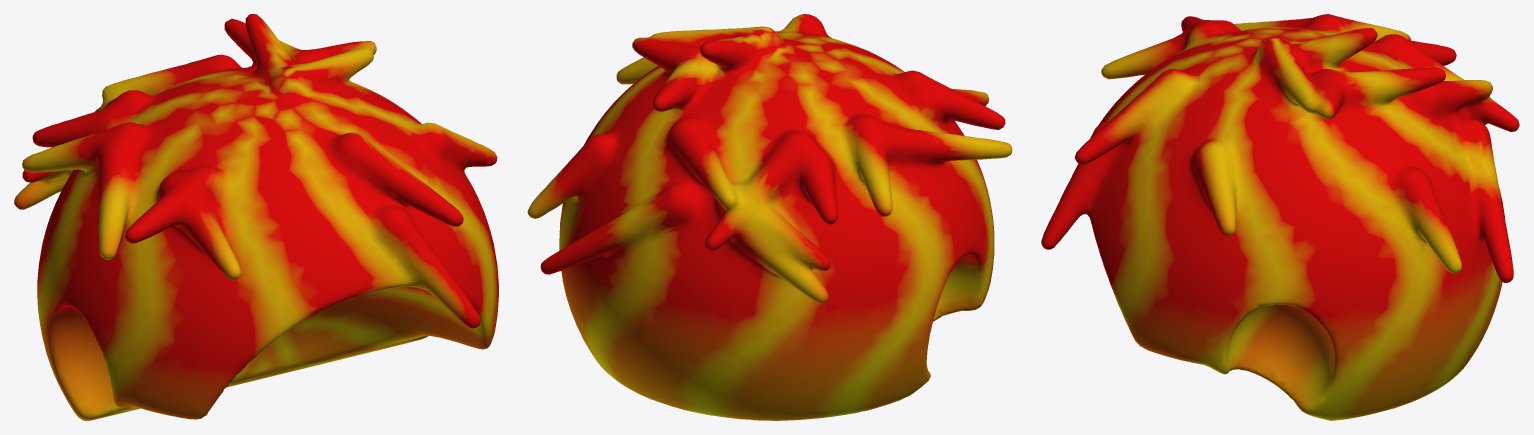
Rendered from messy.glb.
The picture shows the model from 3 angles, left to right: view 1: azimuth 30°, elevation 25°; view 2: azimuth 150°, elevation 25°; view 3: azimuth 270°, elevation 25°; orthographic projection. The views are drawn at different scales.
Visible parts, largest first — view 1: part; view 2: part; view 3: part.
Boxes of the visible parts, <box> form: part: <box>14,14,498,420</box>; part: <box>527,14,1012,420</box>; part: <box>1041,14,1519,420</box>.
Bounding box in the file's own units: 2.2 × 1.79 × 2.33.
